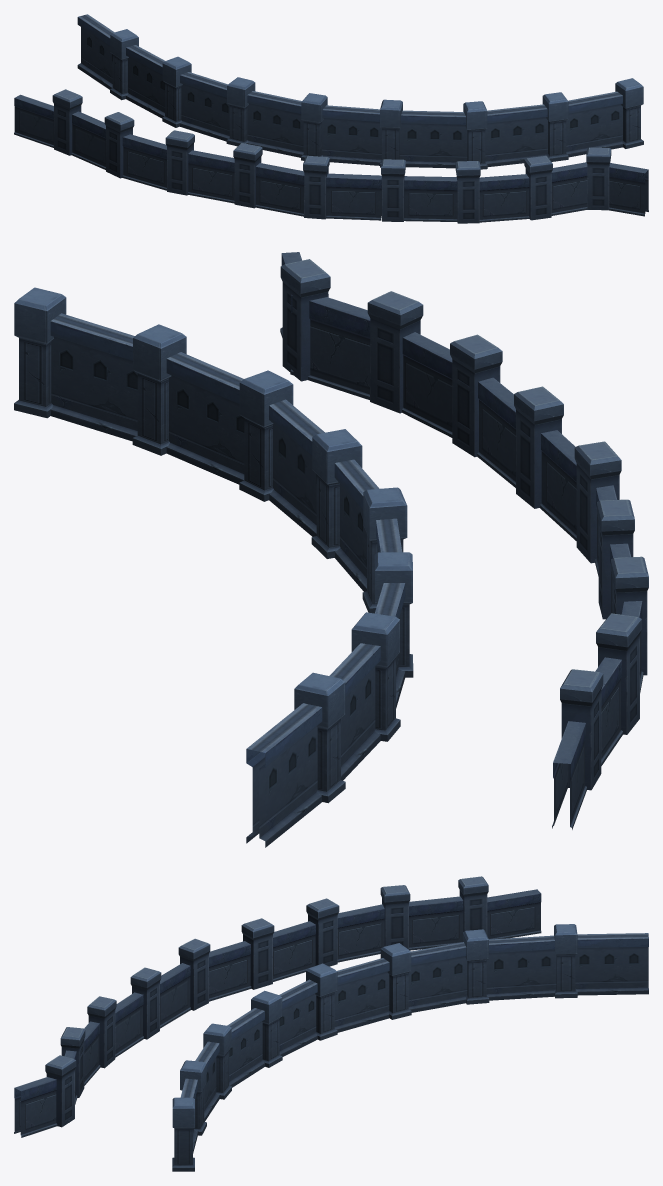
The model's file is chengqiang_group29.fbx.
The picture shows the model from 3 angles, top to bottom: view 1: azimuth 30°, elevation 25°; view 2: azimuth 150°, elevation 25°; view 3: azimuth 270°, elevation 25°; orthographic projection. The views are drawn at different scales.
Visible parts, largest first — view 1: chengqiang_group29; view 2: chengqiang_group29; view 3: chengqiang_group29.
Part boxes in pixels (bbox=[...]): chengqiang_group29: bbox=[14, 14, 648, 223]; chengqiang_group29: bbox=[14, 252, 648, 847]; chengqiang_group29: bbox=[14, 876, 648, 1171].
Size of the model in its own units: 5575 by 701 by 6140.
1 material, 1 textured.
